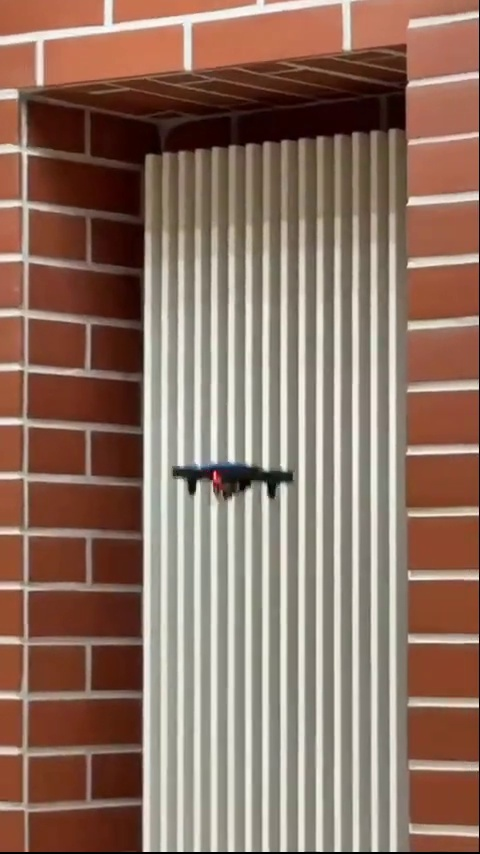drone: (168, 455, 297, 503)
